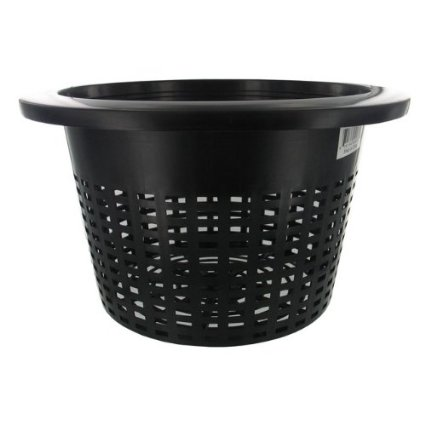basket: (5, 66, 423, 349)
